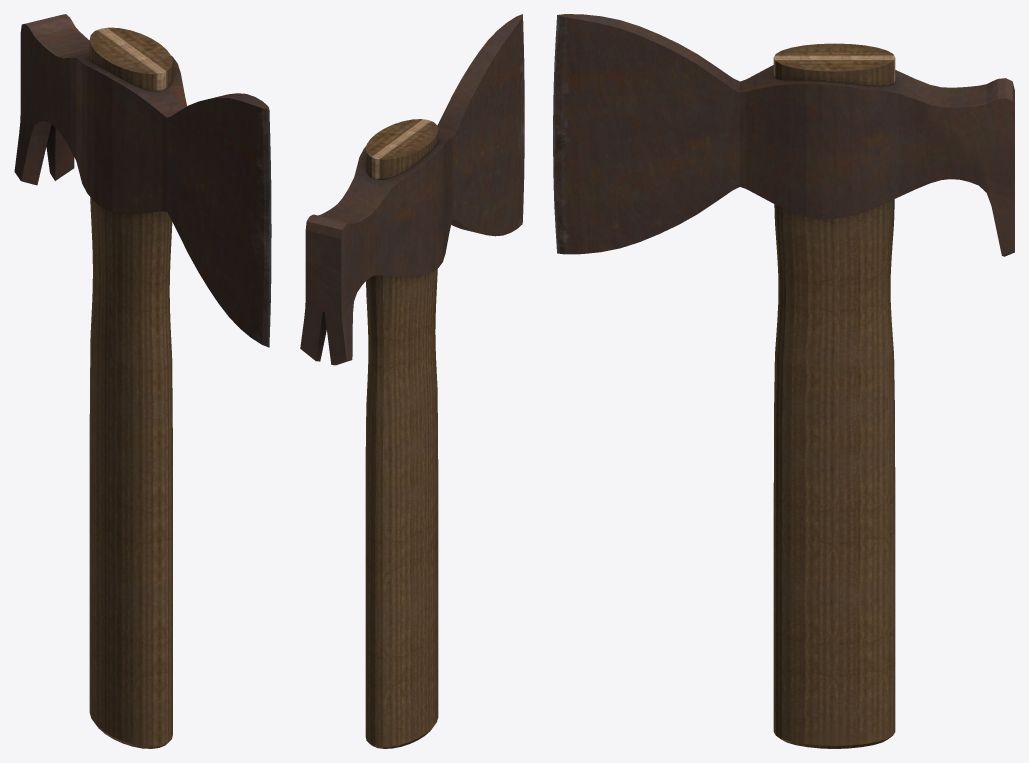
The model's file is axe.obj.
3 renders of one model, left to right at view 1: azimuth 30°, elevation 25°; view 2: azimuth 150°, elevation 25°; view 3: azimuth 270°, elevation 25°, orthographic. The views are drawn at different scales.
Visible parts, largest first — view 1: Machado_untitled2; view 2: Machado_untitled2; view 3: Machado_untitled2.
Boxes of the visible parts, bbox=[...] form: Machado_untitled2: bbox=[14, 14, 271, 748]; Machado_untitled2: bbox=[300, 14, 524, 748]; Machado_untitled2: bbox=[553, 14, 1014, 748].
Size of the model in its own units: 0.0712 by 0.6909 by 0.3964.
Materials: 1 (1 with a texture image).
